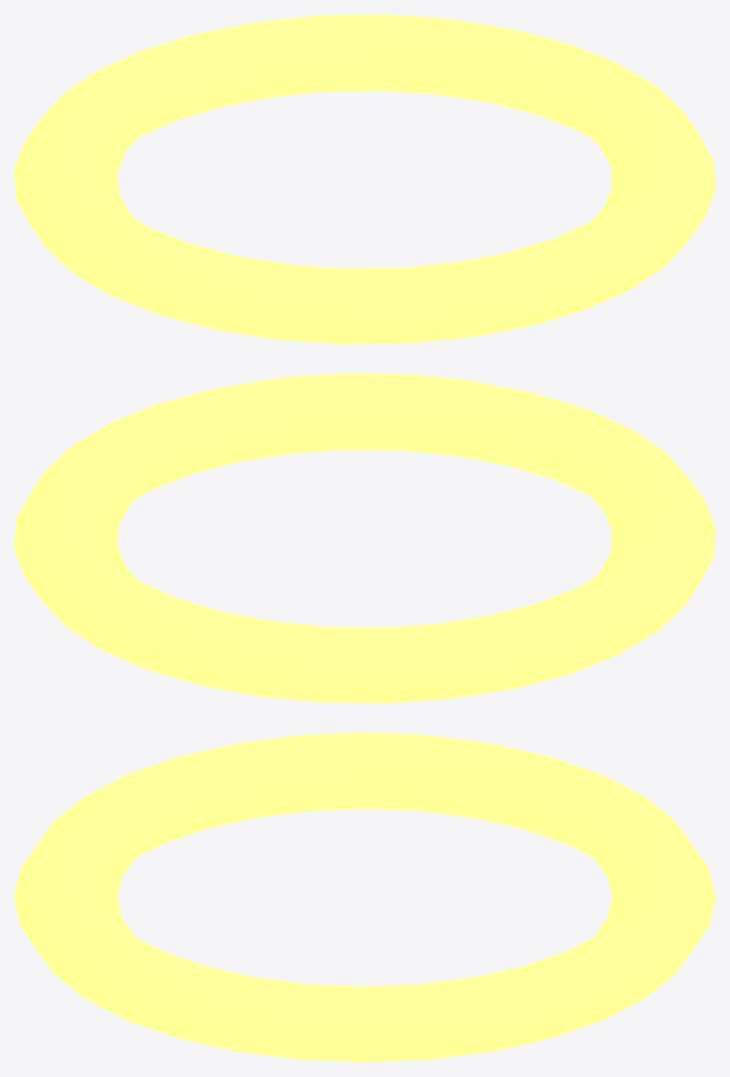
The model's file is ADBASE_ANGEL_halo.fbx.
3 views of the same model, one above another, from view 1: azimuth 30°, elevation 25°; view 2: azimuth 150°, elevation 25°; view 3: azimuth 270°, elevation 25° (orthographic).
Parts seen in each view (by area): view 1: AngelHalo; view 2: AngelHalo; view 3: AngelHalo.
Part boxes in pixels (x1,y1,x2,y2): AngelHalo: (14,14,715,344); AngelHalo: (14,373,715,703); AngelHalo: (14,732,715,1062).
Bounding box in the file's own units: 19.09 × 1.99 × 19.09.
